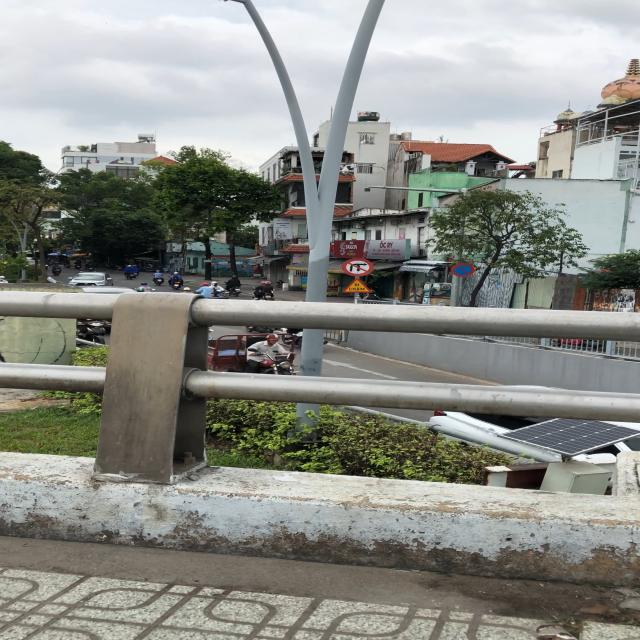Bien bao cam re phai va quay dau: (338, 258, 378, 278)
